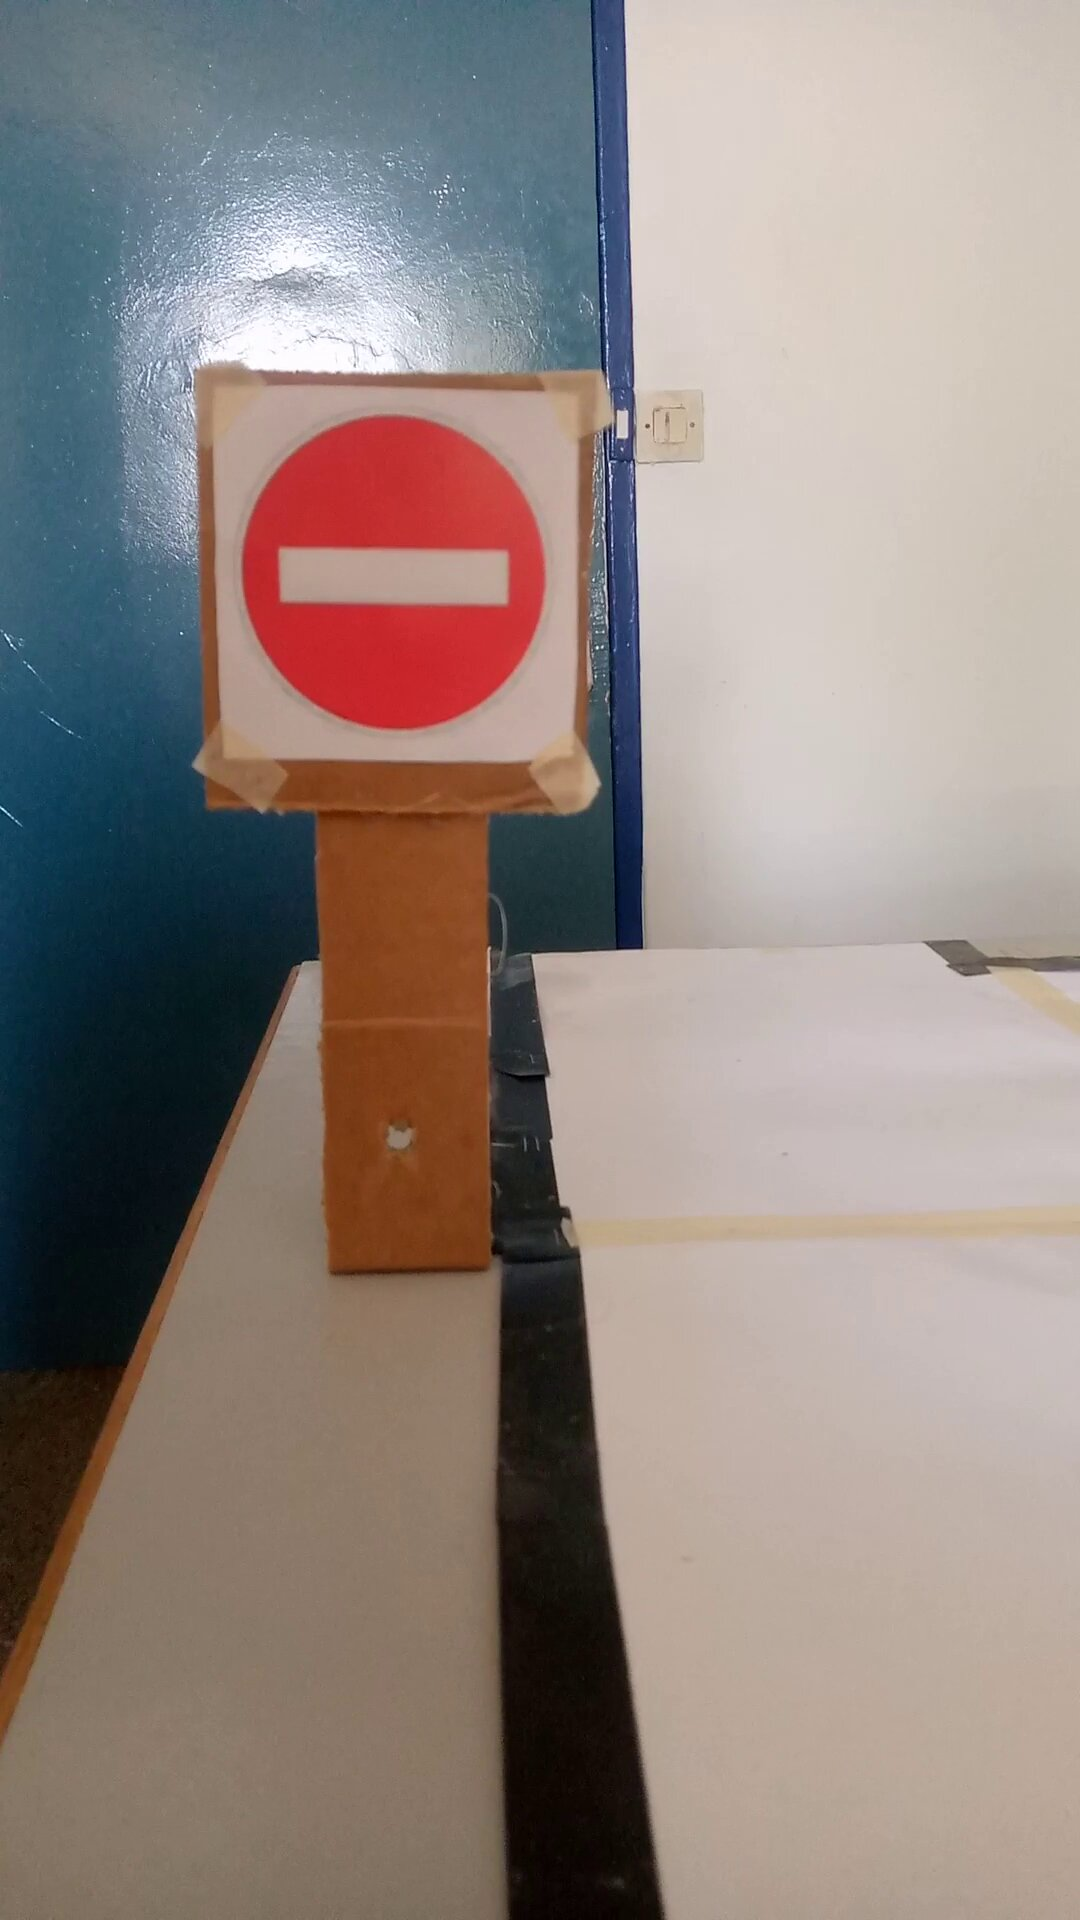panel010: (190, 363, 595, 767)
